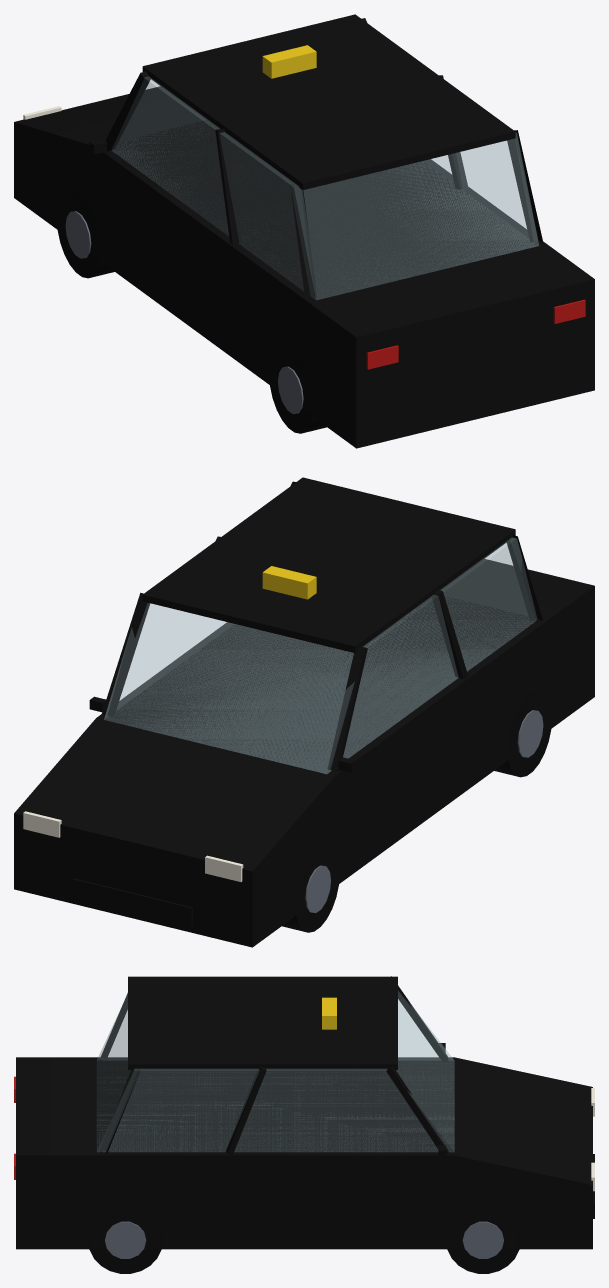
The model's file is vehicle.car.taxi.glb.
3 views of the same model, one above another, from view 1: azimuth 30°, elevation 25°; view 2: azimuth 150°, elevation 25°; view 3: azimuth 270°, elevation 25° (orthographic). The views are drawn at different scales.
Parts seen in each view (by area): view 1: main__plastic_black, main__glass, main__rubber, main__steel_painted, main__plastic_yellow, main__hazard_red; view 2: main__plastic_black, main__glass, main__rubber, main__steel_painted, main__light_emitter, main__plastic_yellow; view 3: main__plastic_black, main__glass, main__rubber, main__steel_painted, main__plastic_yellow.
Boxes of the visible parts, x1,y1,x2,y2 form: main__plastic_black: [14, 14, 594, 448]; main__glass: [112, 77, 538, 299]; main__rubber: [57, 192, 326, 433]; main__steel_painted: [65, 211, 303, 413]; main__plastic_yellow: [262, 45, 316, 78]; main__hazard_red: [366, 299, 585, 369]; main__plastic_black: [14, 477, 594, 947]; main__glass: [104, 538, 536, 773]; main__rubber: [282, 690, 551, 932]; main__steel_painted: [305, 710, 543, 912]; main__light_emitter: [23, 811, 243, 881]; main__plastic_yellow: [262, 566, 316, 599]; main__plastic_black: [16, 976, 594, 1249]; main__glass: [97, 991, 454, 1151]; main__rubber: [88, 1209, 520, 1273]; main__steel_painted: [105, 1221, 503, 1258]; main__plastic_yellow: [322, 997, 336, 1029].
Bounding box in the file's own units: 2.03 × 1.92 × 4.63.
